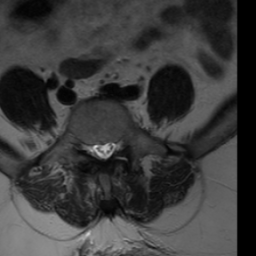CCS_severe_stenosis: (99, 136, 107, 167)
LFS_normal: (117, 129, 126, 159)
LLS_normal: (107, 132, 117, 164)
RFS_normal: (81, 132, 90, 161)
RLS_normal: (90, 133, 99, 164)
